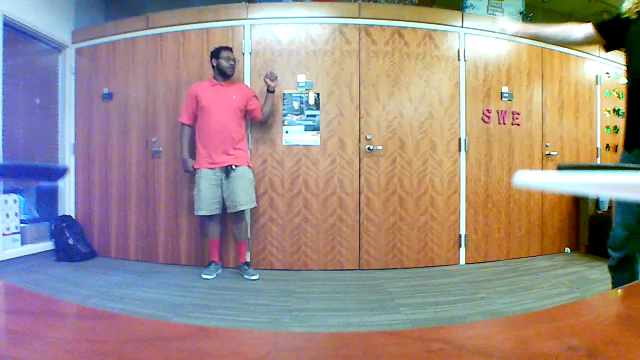up: (260, 59, 278, 95)
